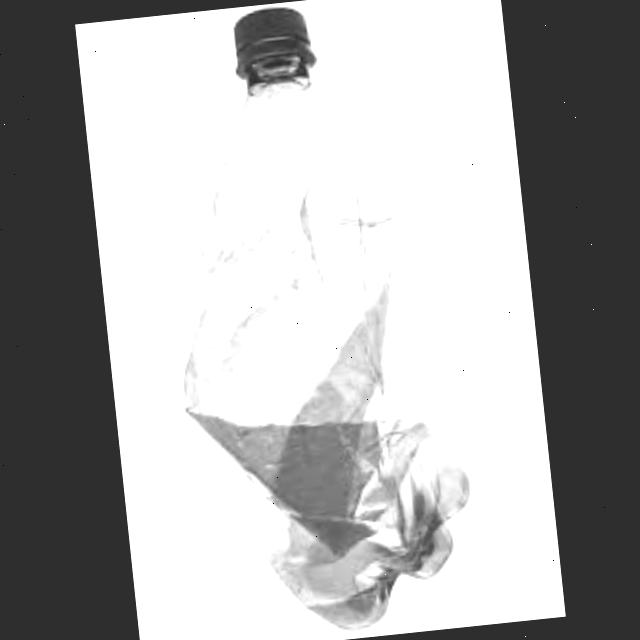trash: (140, 0, 492, 640)
